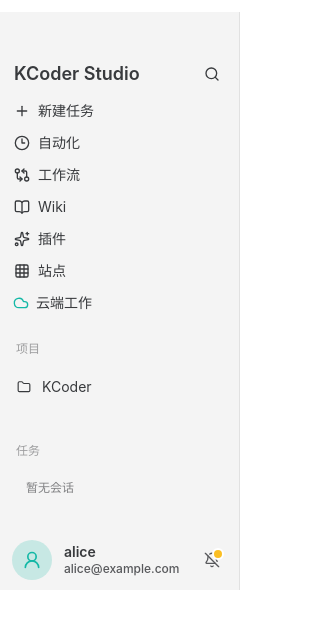
Test case: DesktopSidebar menus › shows project pin failures and prevents duplicate requests while pending
Right-click the element with test id "project-row-7" at (120, 387), box [6,372,234,402]
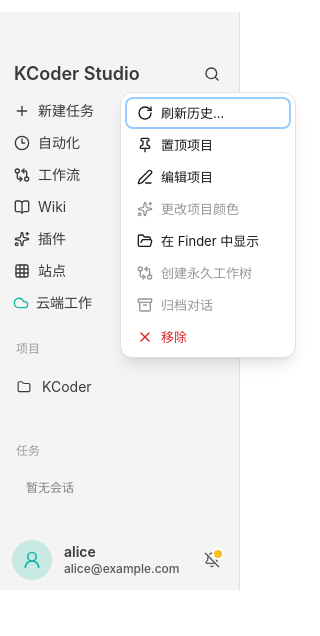
Click the menu item with test id "pin-project-7". click: (208, 145)
box: [125,129,291,161]
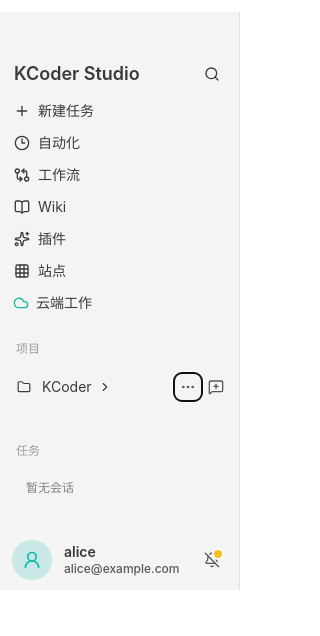
Right-click the element with test id "project-row-7" at (120, 387), box [6,372,234,402]
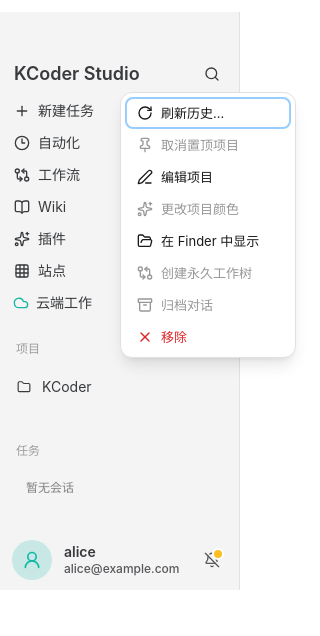
Now the menu item with test id "pin-project-7" is disabled, box [125,129,291,161]
Press Escape
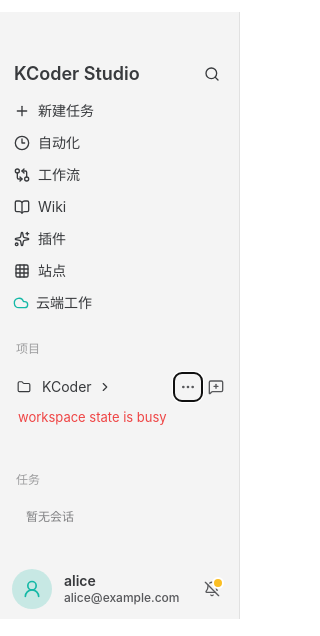
Now the message with test id "project-pin-error-7" reads "workspace state is busy", box [18,409,167,425]
Right-click the element with test id "project-row-7" at (120, 387), box [6,372,234,402]
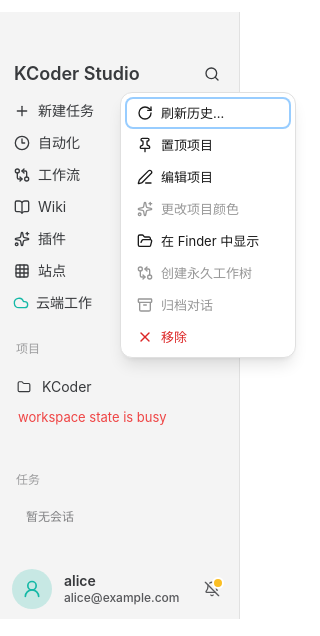
Click the menu item with test id "pin-project-7". click: (208, 145)
box: [125,129,291,161]
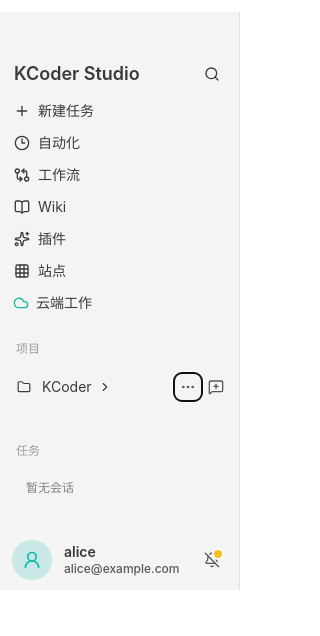
Now the message with test id "project-pin-error-7" is gone
